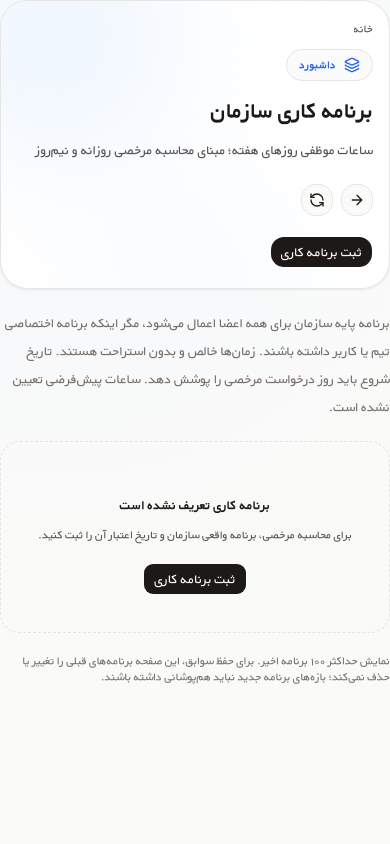
work schedule setup › shows a true empty state with the existing create workflow
The image size is (390, 844).
Click the button "ثبت برنامه کاری" below "برنامه کاری تعریف نشده است": (195, 579) [144,563,247,595]
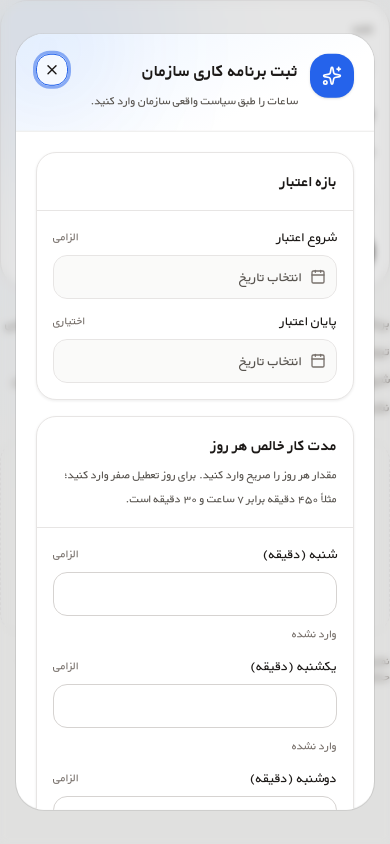
Check: the dialog "ثبت برنامه کاری سازمان" is shown
